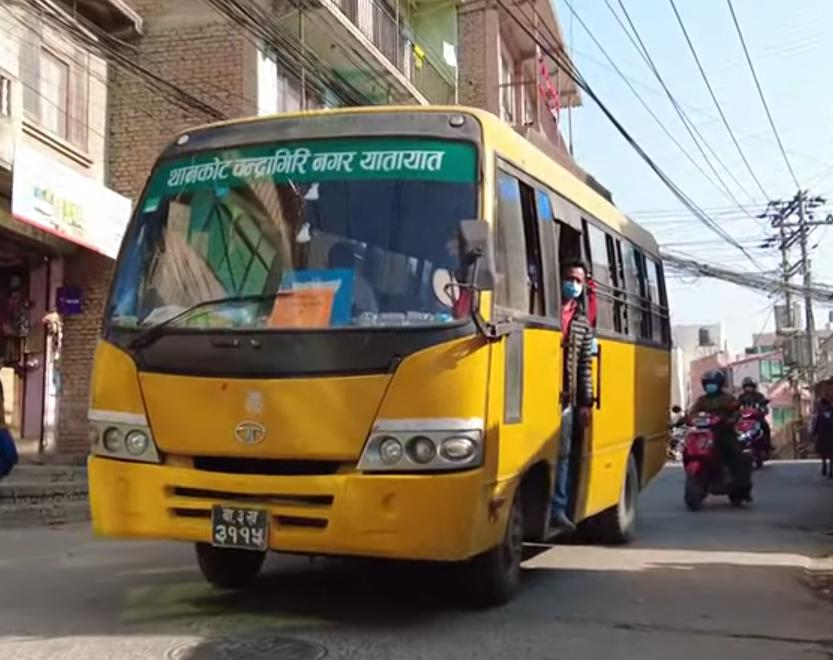school_bus: (81, 101, 680, 605)
scooter: (667, 400, 754, 510)
